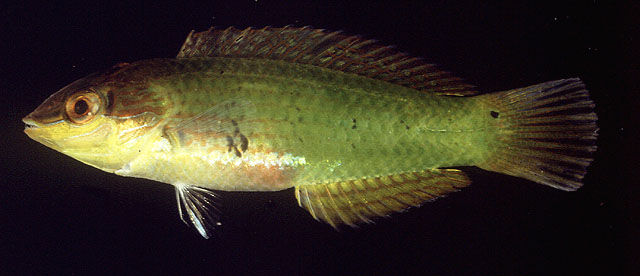fish: (22, 24, 599, 239)
